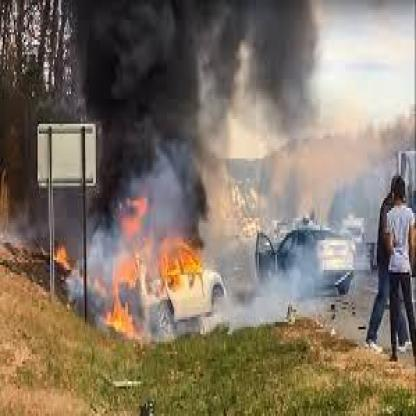fire: (46, 195, 216, 333)
smoke: (65, 0, 320, 191)
